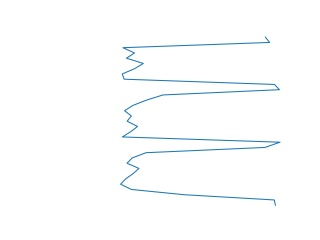majorRiverChannelBar: (118, 37, 283, 208)
